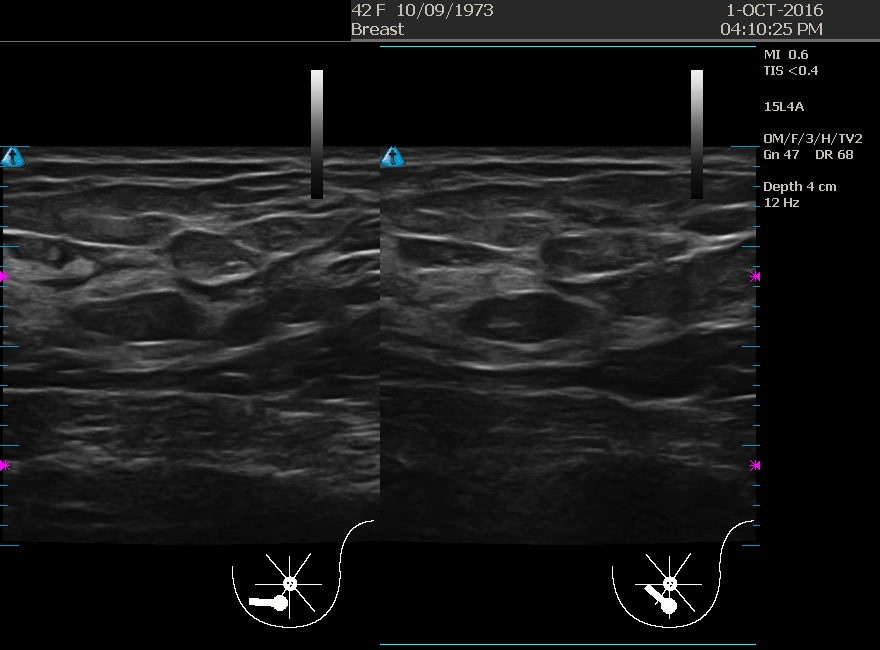Benign: (51, 216, 251, 416), (436, 223, 636, 423)
